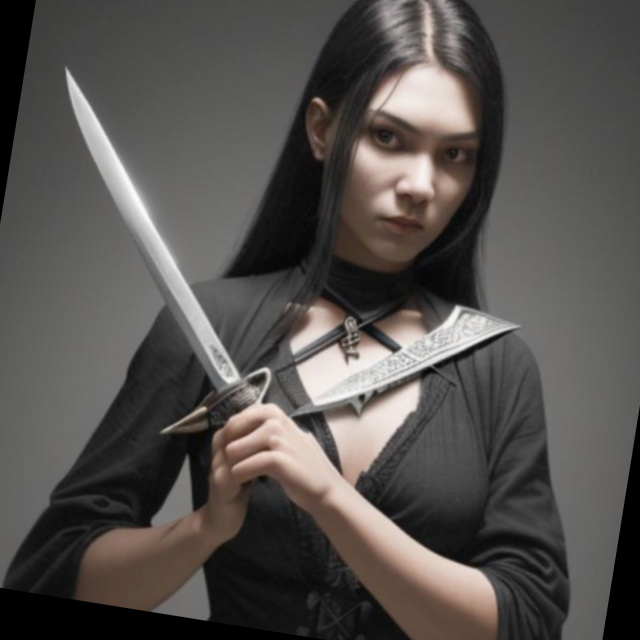Sharp-Object: (2, 59, 328, 458)
